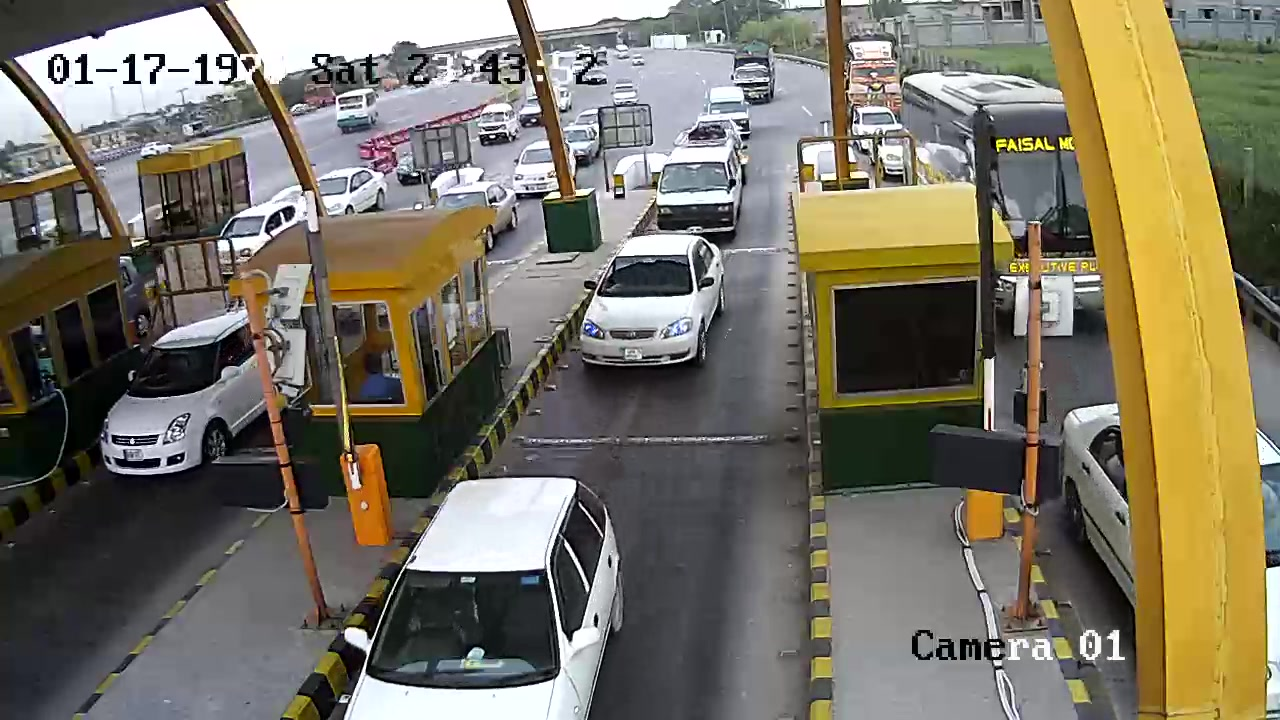F1: (566, 233, 744, 388)
